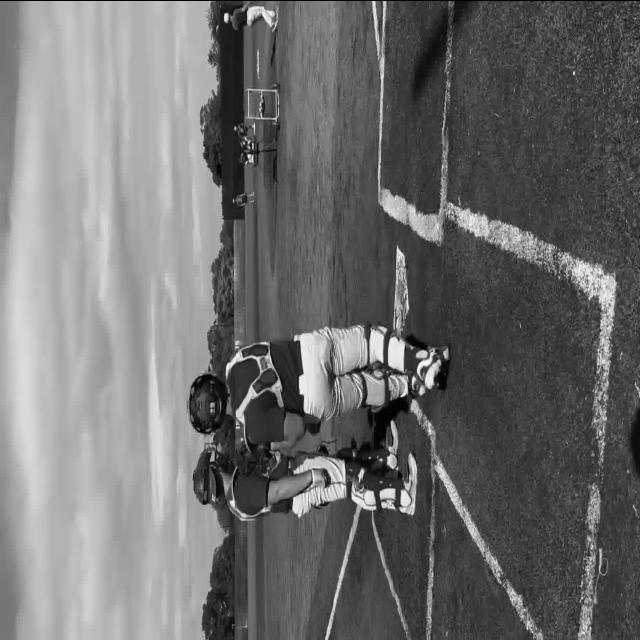base: (394, 242, 411, 334)
baseball_glove: (234, 438, 272, 476)
shoe: (416, 344, 450, 390), (398, 452, 418, 516), (381, 420, 398, 470), (408, 372, 426, 397), (270, 20, 278, 32)
